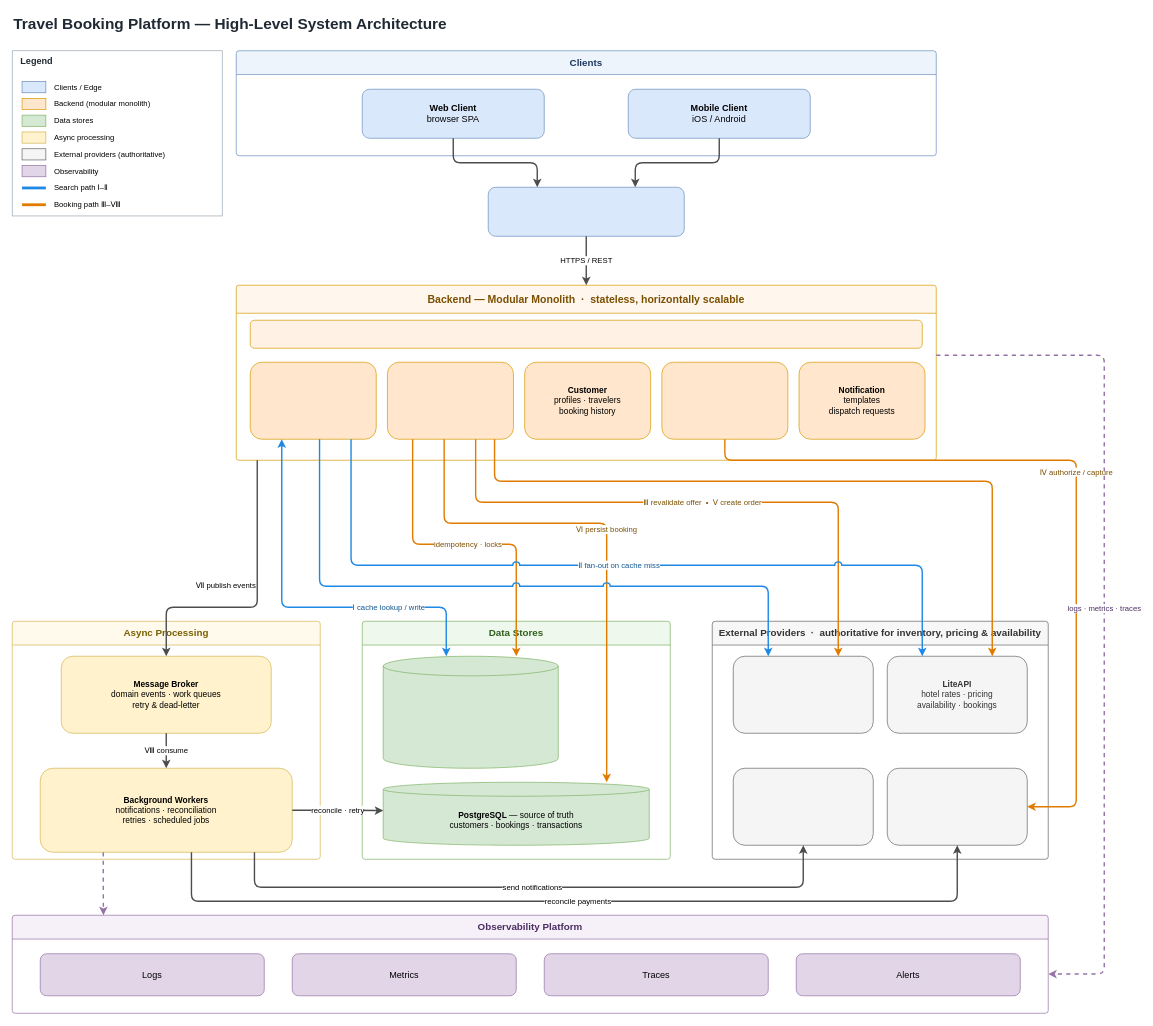
This 1153x1026 diagram has some shape labels left out. The shapes that lost their labels are listed below. From the top down, each one's centre as x and y in pixels, then its label:
At point 586,211: "Load Balancer TLS termination · health checks".
At point 586,334: "HTTP API Layer — routing · authn/authz · validation · idempotency guard".
At point 313,400: "Search fan-out · normalize aggregate · rank".
At point 450,400: "Booking offer revalidation order orchestration".
At point 724,400: "Payment authorize · capture refund".
At point 470,712: "Redis search cache idempotency keys distributed locks temp orchestration state".
At point 803,694: "Duffel flight offers · pricing availability · orders".
At point 803,806: "Notification Provider email · SMS · push".
At point 957,806: "Payment Provider authorize · capture refund · webhooks".
